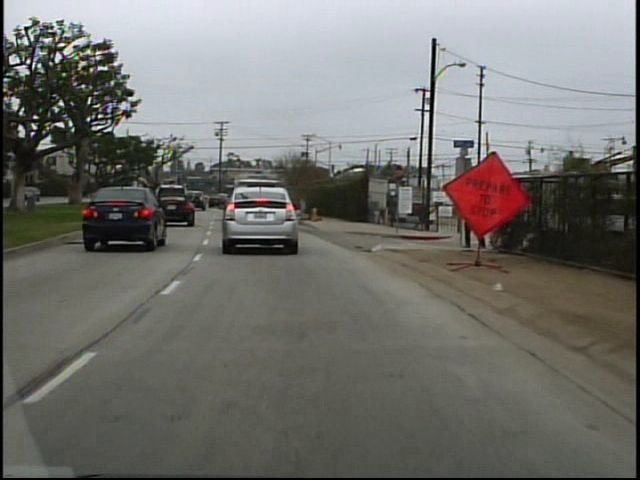person: (456, 183, 492, 254)
